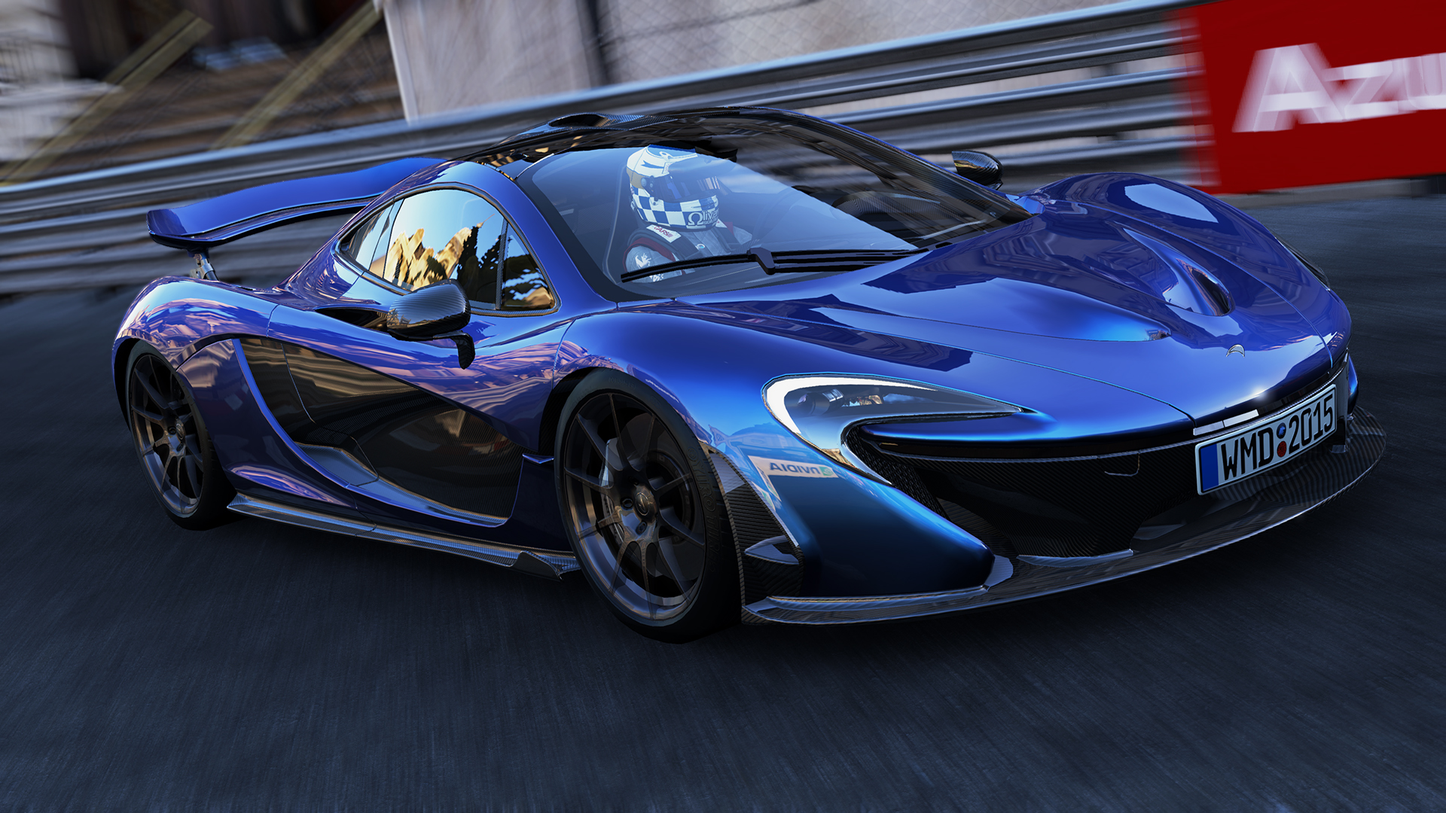other: (127, 120, 1377, 650)
